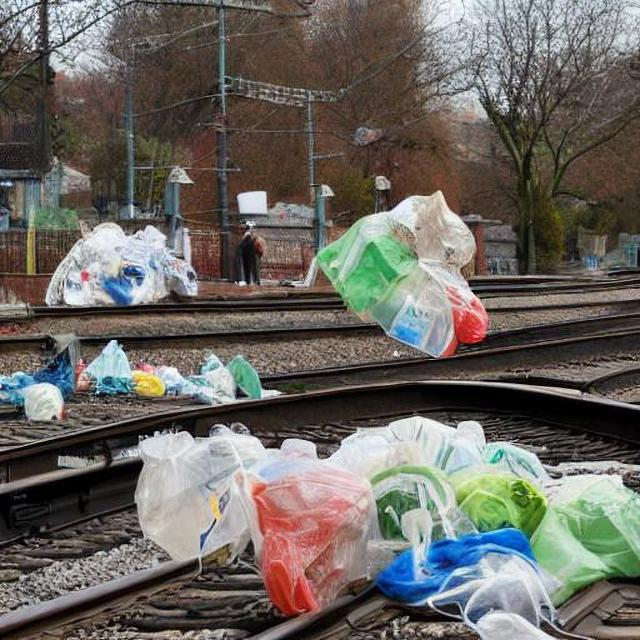plastic bag: (123, 395, 640, 621), (304, 186, 528, 362), (11, 328, 277, 427), (42, 203, 198, 311)
